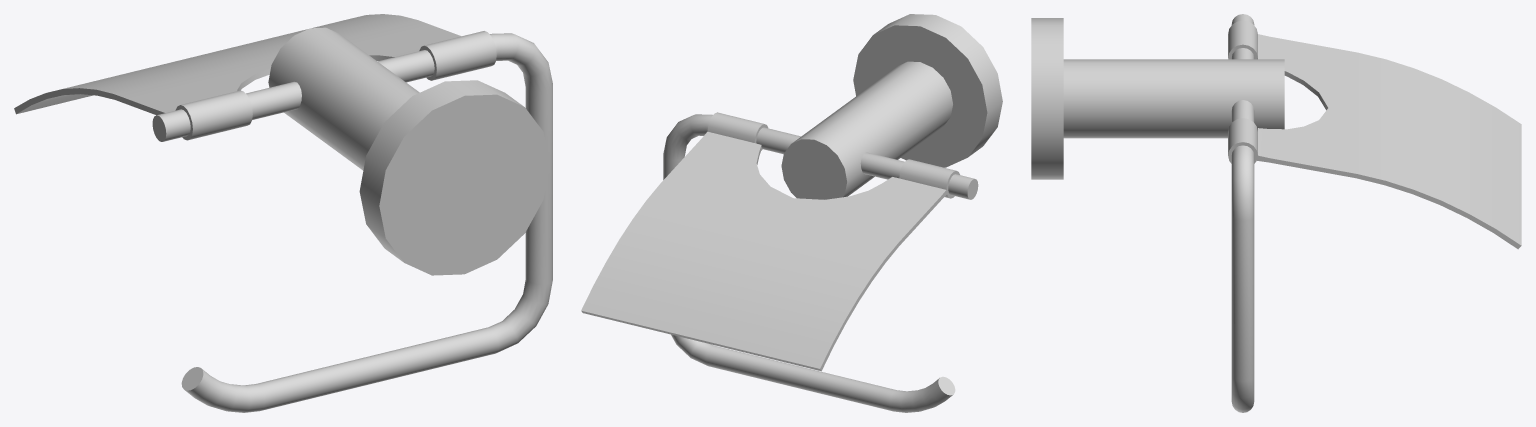
File: TissueHanger05.fbx
3 views of the same model, side by side, from view 1: azimuth 30°, elevation 25°; view 2: azimuth 150°, elevation 25°; view 3: azimuth 270°, elevation 25° (orthographic). The views are drawn at different scales.
Parts seen in each view (by area): view 1: TissueHanger05, TissueHanger05Cover; view 2: TissueHanger05Cover, TissueHanger05; view 3: TissueHanger05Cover, TissueHanger05.
Part boxes in pixels (x1=…): TissueHanger05: x1=152, y1=27, x2=552, y2=412; TissueHanger05Cover: x1=14, y1=14, x2=496, y2=140; TissueHanger05Cover: x1=581, y1=112, x2=959, y2=371; TissueHanger05: x1=663, y1=14, x2=1002, y2=412; TissueHanger05Cover: x1=1228, y1=20, x2=1521, y2=249; TissueHanger05: x1=1031, y1=14, x2=1284, y2=412.
Size of the model in its own units: 18.37 by 17.46 by 24.27.
